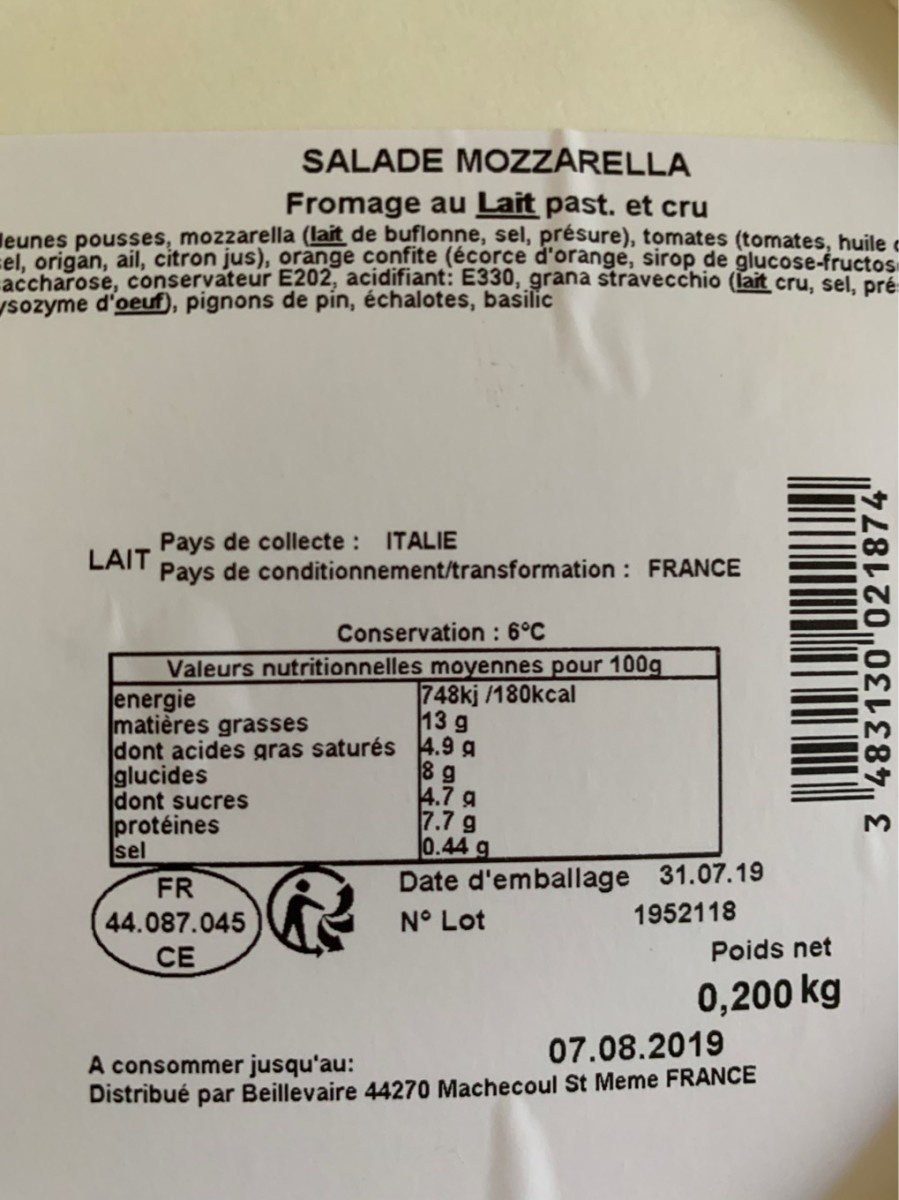column: (114, 686, 399, 859), (423, 684, 579, 856)
table: (104, 646, 730, 862)
